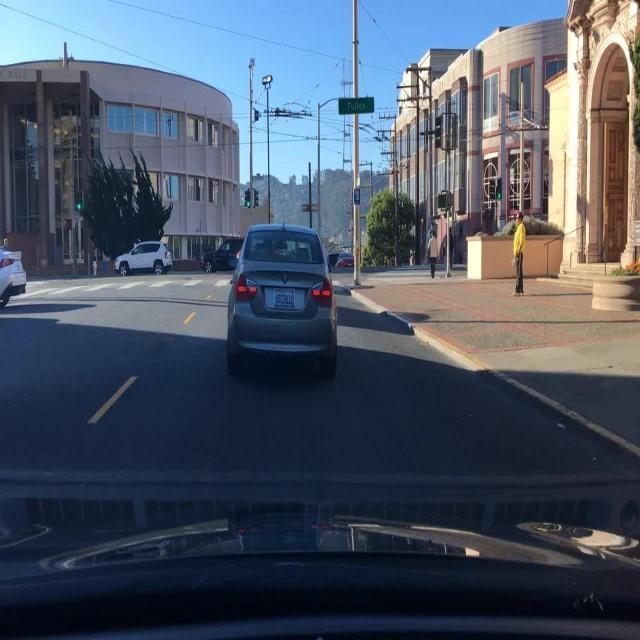normal: (227, 224, 339, 377), (114, 243, 172, 277), (0, 249, 28, 309), (201, 235, 242, 272)
